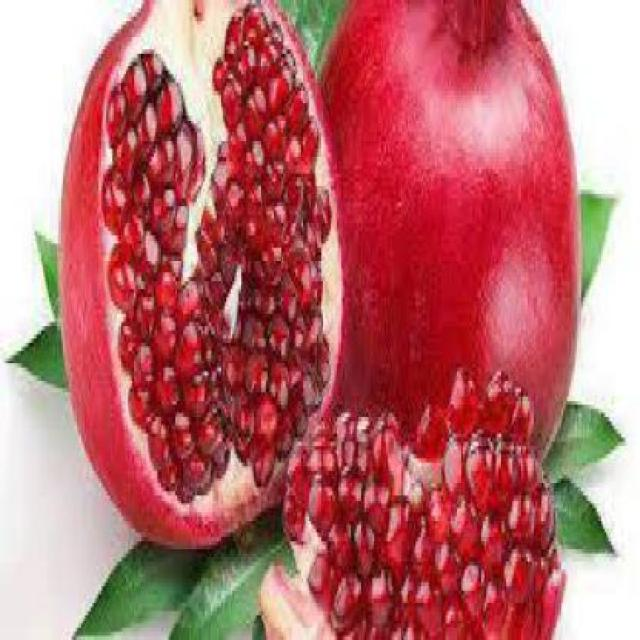BIODEGRADABLE: (58, 0, 342, 546), (313, 1, 578, 462), (284, 363, 561, 635), (167, 512, 290, 636), (68, 537, 208, 635), (542, 400, 622, 474), (256, 558, 330, 636), (549, 474, 614, 558), (574, 186, 614, 302), (8, 317, 63, 388), (266, 0, 337, 54), (33, 227, 58, 318)
